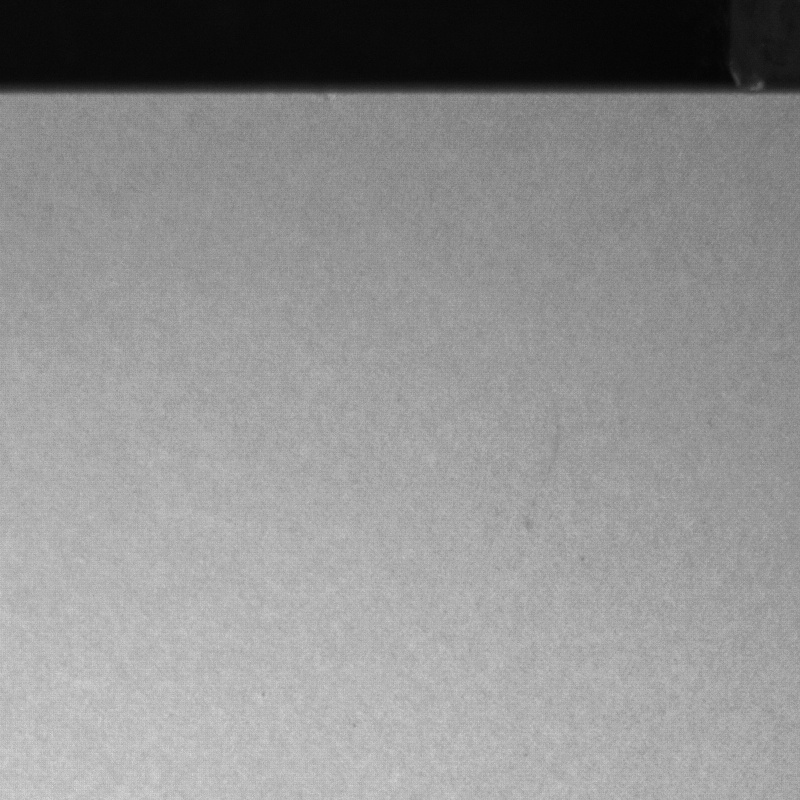defect: (522, 427, 562, 526)
